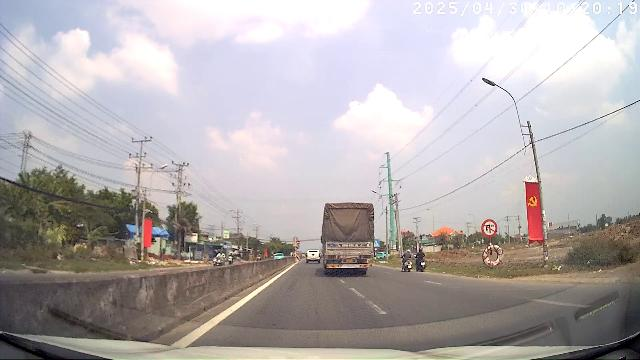124b-cam-oto-quay-dau-xe: (481, 218, 498, 238)
